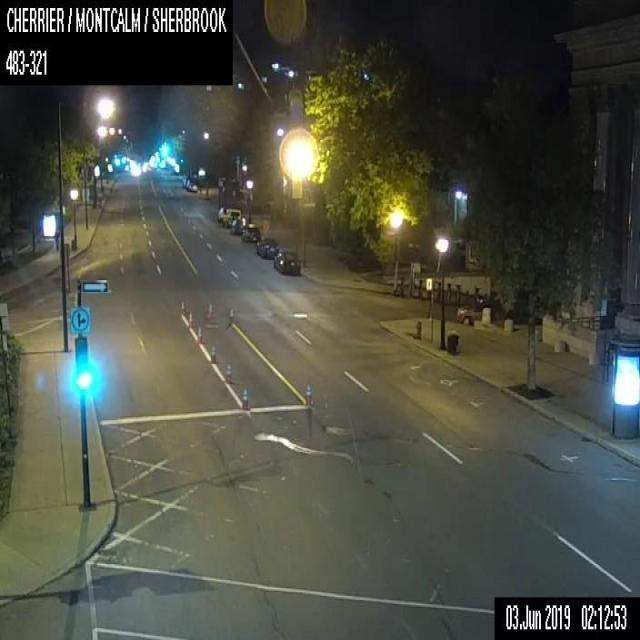construction: (240, 383, 249, 408), (302, 381, 312, 403), (194, 321, 203, 342), (224, 360, 232, 383), (225, 307, 233, 328), (209, 340, 216, 364), (205, 297, 212, 318), (186, 308, 193, 329), (179, 296, 186, 316)
vehicle: (456, 297, 503, 324), (274, 246, 300, 275), (256, 237, 278, 257), (240, 223, 261, 242), (220, 208, 240, 227), (230, 216, 247, 234), (217, 206, 226, 221), (187, 181, 197, 191)
